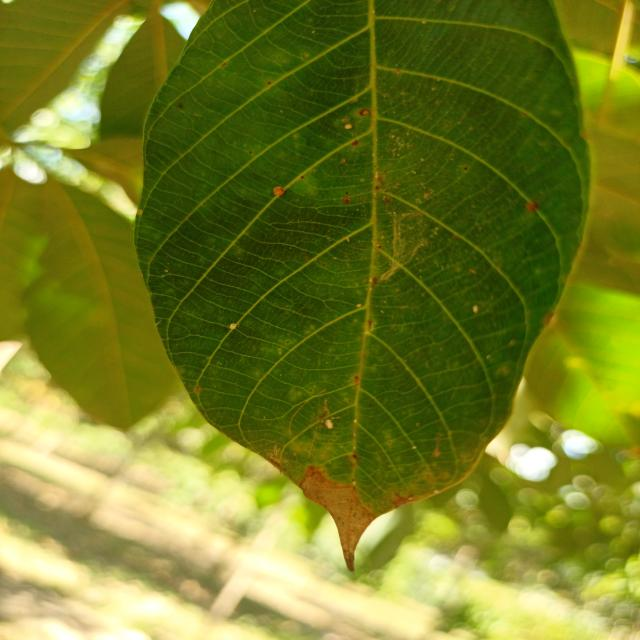Colletotrichum: (360, 109, 370, 115)
Leaf-Blight: (300, 465, 376, 571)
